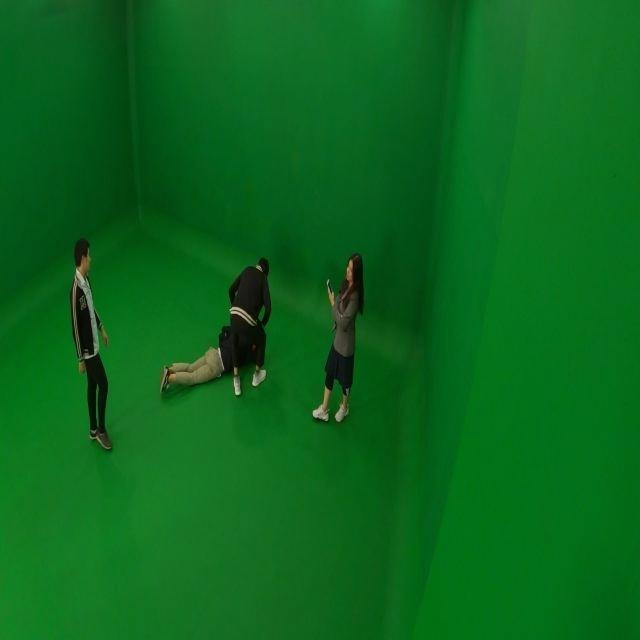fight: (158, 253, 273, 401)
non-fight: (70, 237, 113, 452), (315, 253, 364, 424)
